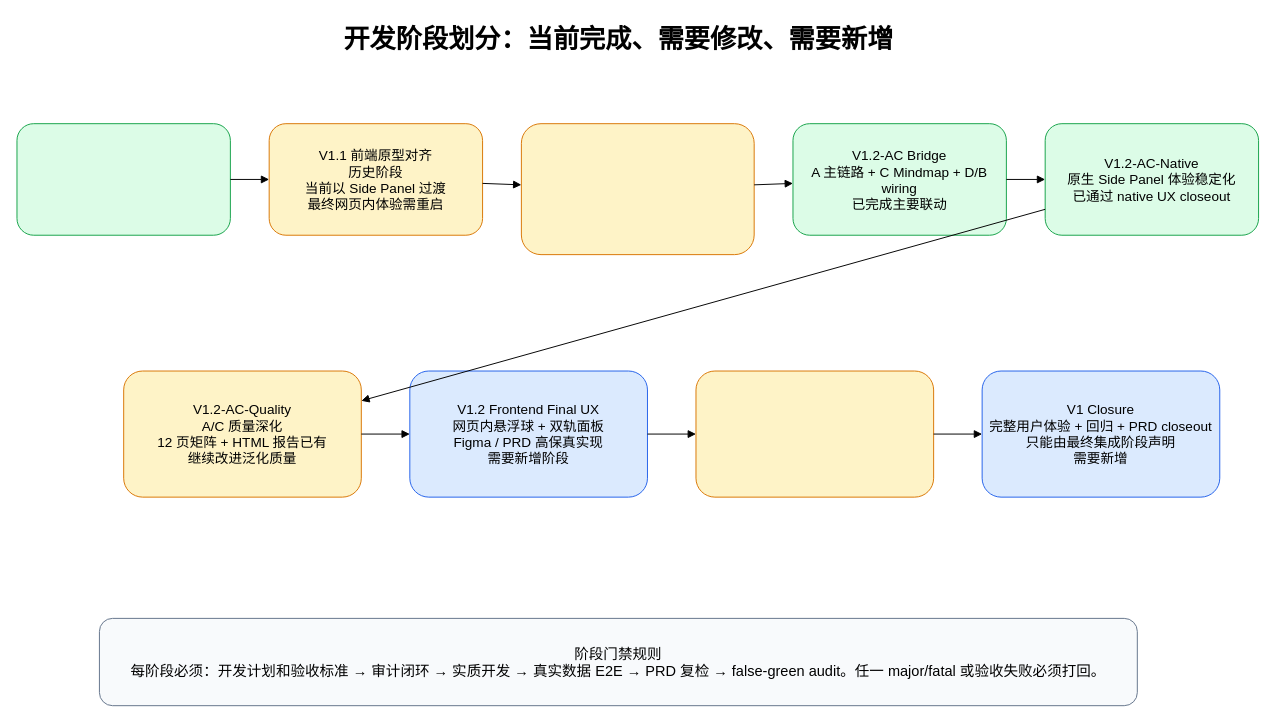
Some shapes in this 1276 by 723 pixel diagram are drawn without their labels. Each missing label, with the box of its shape:
A-V1.2 Page Perception 高信号感知 / 证据 / 质量报告 已实现 AC 基线 100-page production gate 未声明: (520, 123, 754, 255)
V1.0 Runtime Skeleton 合同 / SSE / Session / ToolResult / Event 已完成基础: (16, 123, 230, 235)
V1.2 AgenticLoop Deepening 连续无限聊天 CoreProvider 切换 / piAgent 稳定运行 需要修改深化: (695, 370, 934, 497)
